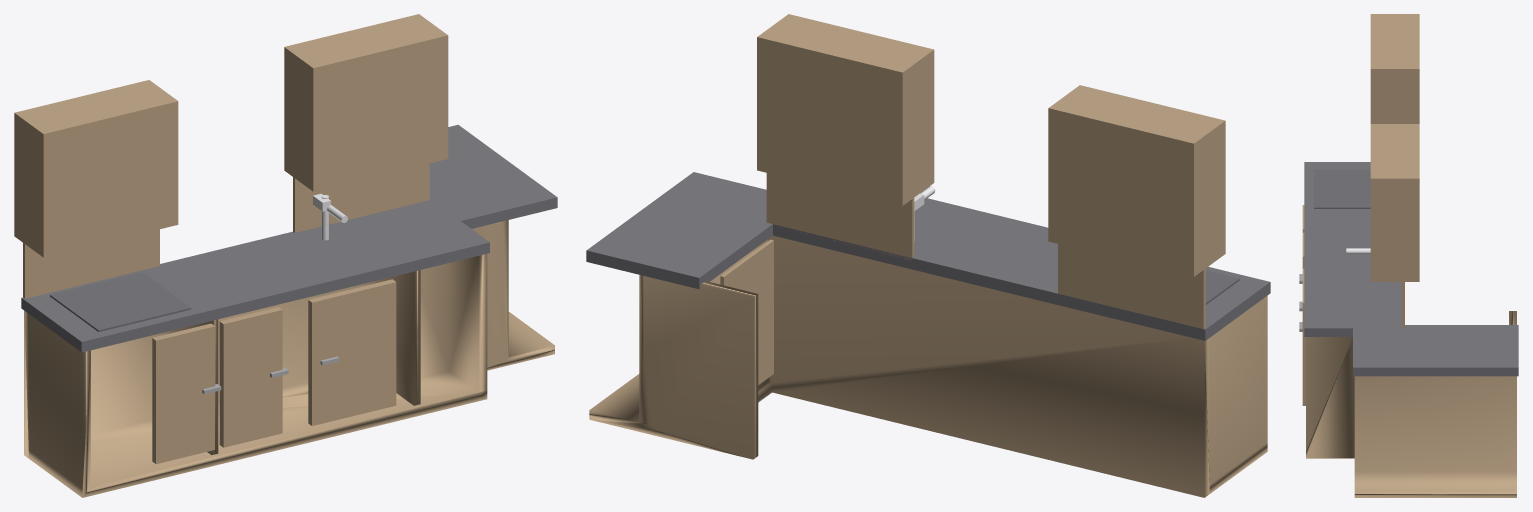
Rendered from kitchen_counter.glb.
3 views of the same model, side by side, from view 1: azimuth 30°, elevation 25°; view 2: azimuth 150°, elevation 25°; view 3: azimuth 270°, elevation 25° (orthographic). The views are drawn at different scales.
Visible parts, largest first — view 1: merged_cabinet_wood, wall_cab_l, wall_cab_r, counter_top_long, door_long_r, door_long_m, door_long_l, counter_top_short, backsplash_l, backsplash_r, stove_top; view 2: merged_cabinet_wood, wall_cab_r, wall_cab_l, counter_top_long, counter_top_short, backsplash_r, backsplash_l, door_short; view 3: merged_cabinet_wood, counter_top_long, counter_top_short, wall_cab_r, wall_cab_l, stove_top, door_long_r.
Boxes of the visible parts, bbox=[...] form: merged_cabinet_wood: bbox=[24, 220, 554, 497]; wall_cab_l: bbox=[14, 80, 178, 257]; wall_cab_r: bbox=[284, 14, 448, 191]; counter_top_long: bbox=[21, 199, 489, 352]; door_long_r: bbox=[308, 279, 396, 425]; door_long_m: bbox=[219, 307, 282, 447]; door_long_l: bbox=[152, 323, 214, 464]; counter_top_short: bbox=[425, 124, 557, 228]; backsplash_l: bbox=[23, 204, 159, 298]; backsplash_r: bbox=[293, 137, 429, 232]; stove_top: bbox=[50, 272, 191, 331]; merged_cabinet_wood: bbox=[589, 235, 1267, 497]; wall_cab_r: bbox=[757, 14, 934, 205]; wall_cab_l: bbox=[1048, 85, 1225, 276]; counter_top_long: bbox=[773, 198, 1270, 340]; counter_top_short: bbox=[586, 172, 772, 289]; backsplash_r: bbox=[766, 155, 914, 260]; backsplash_l: bbox=[1058, 226, 1205, 328]; door_short: bbox=[720, 239, 773, 384]; merged_cabinet_wood: bbox=[1306, 311, 1516, 497]; counter_top_long: bbox=[1304, 162, 1404, 336]; counter_top_short: bbox=[1353, 325, 1518, 376]; wall_cab_r: bbox=[1370, 124, 1419, 281]; wall_cab_l: bbox=[1370, 14, 1419, 123]; stove_top: bbox=[1314, 169, 1370, 208]; door_long_r: bbox=[1302, 268, 1305, 405].
Size of the model in its own units: 3 by 1.9 by 1.35.
